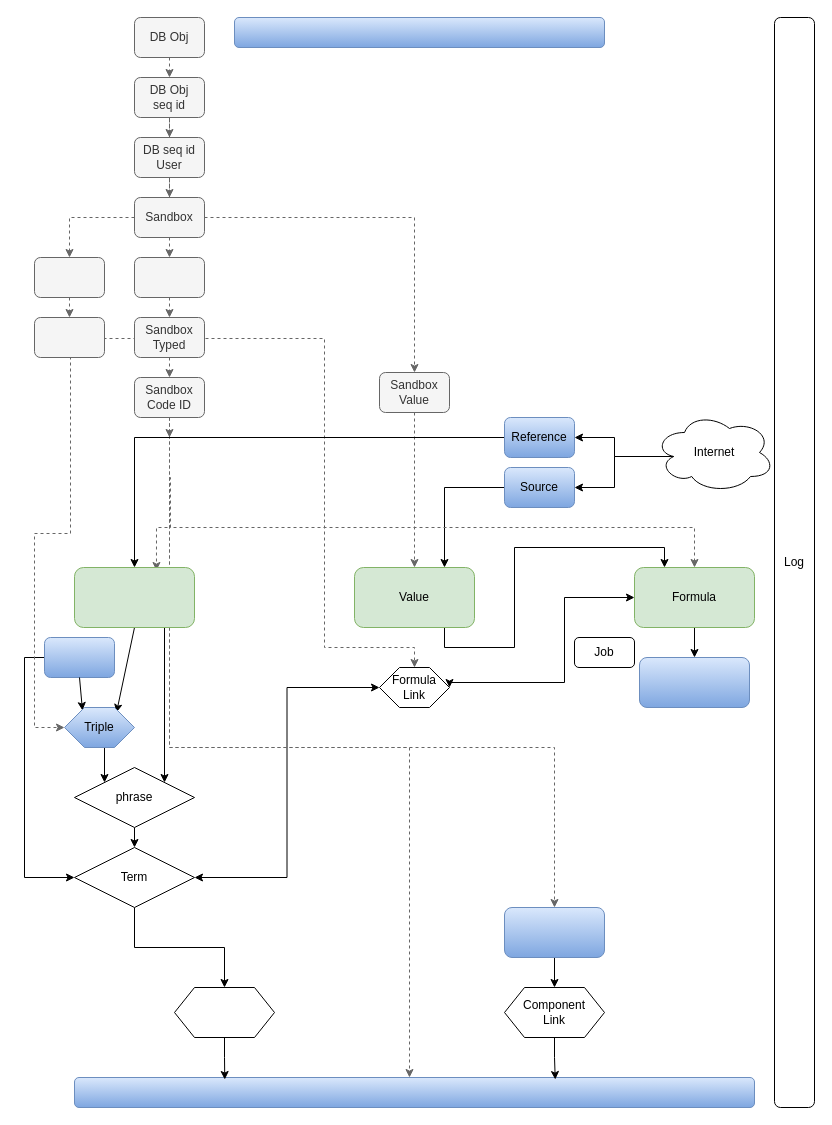
The diagram is 832 pixels wide and 1125 high, and some of its shapes have lost their labels. Each missing label, with the centre of its shape:
Component: the point at 554,932
Result: the point at 694,682
Sandbox Link: the point at 69,277
Sandbox Link Named: the point at 69,337
Sandbox Named: the point at 169,277
User: the point at 419,32
Verb: the point at 79,657
View: the point at 414,1092
View Link: the point at 224,1012
Word: the point at 134,597
